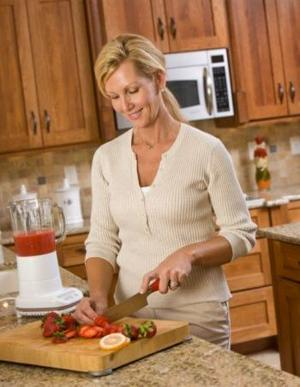person: (74, 35, 256, 352)
